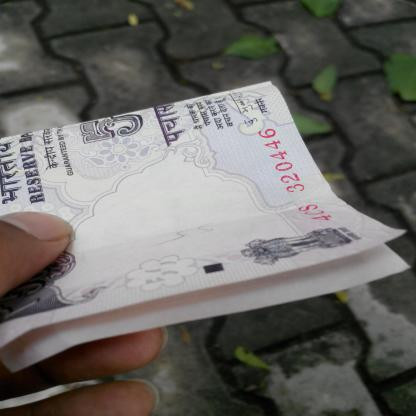Old50Front: (0, 82, 411, 375)
